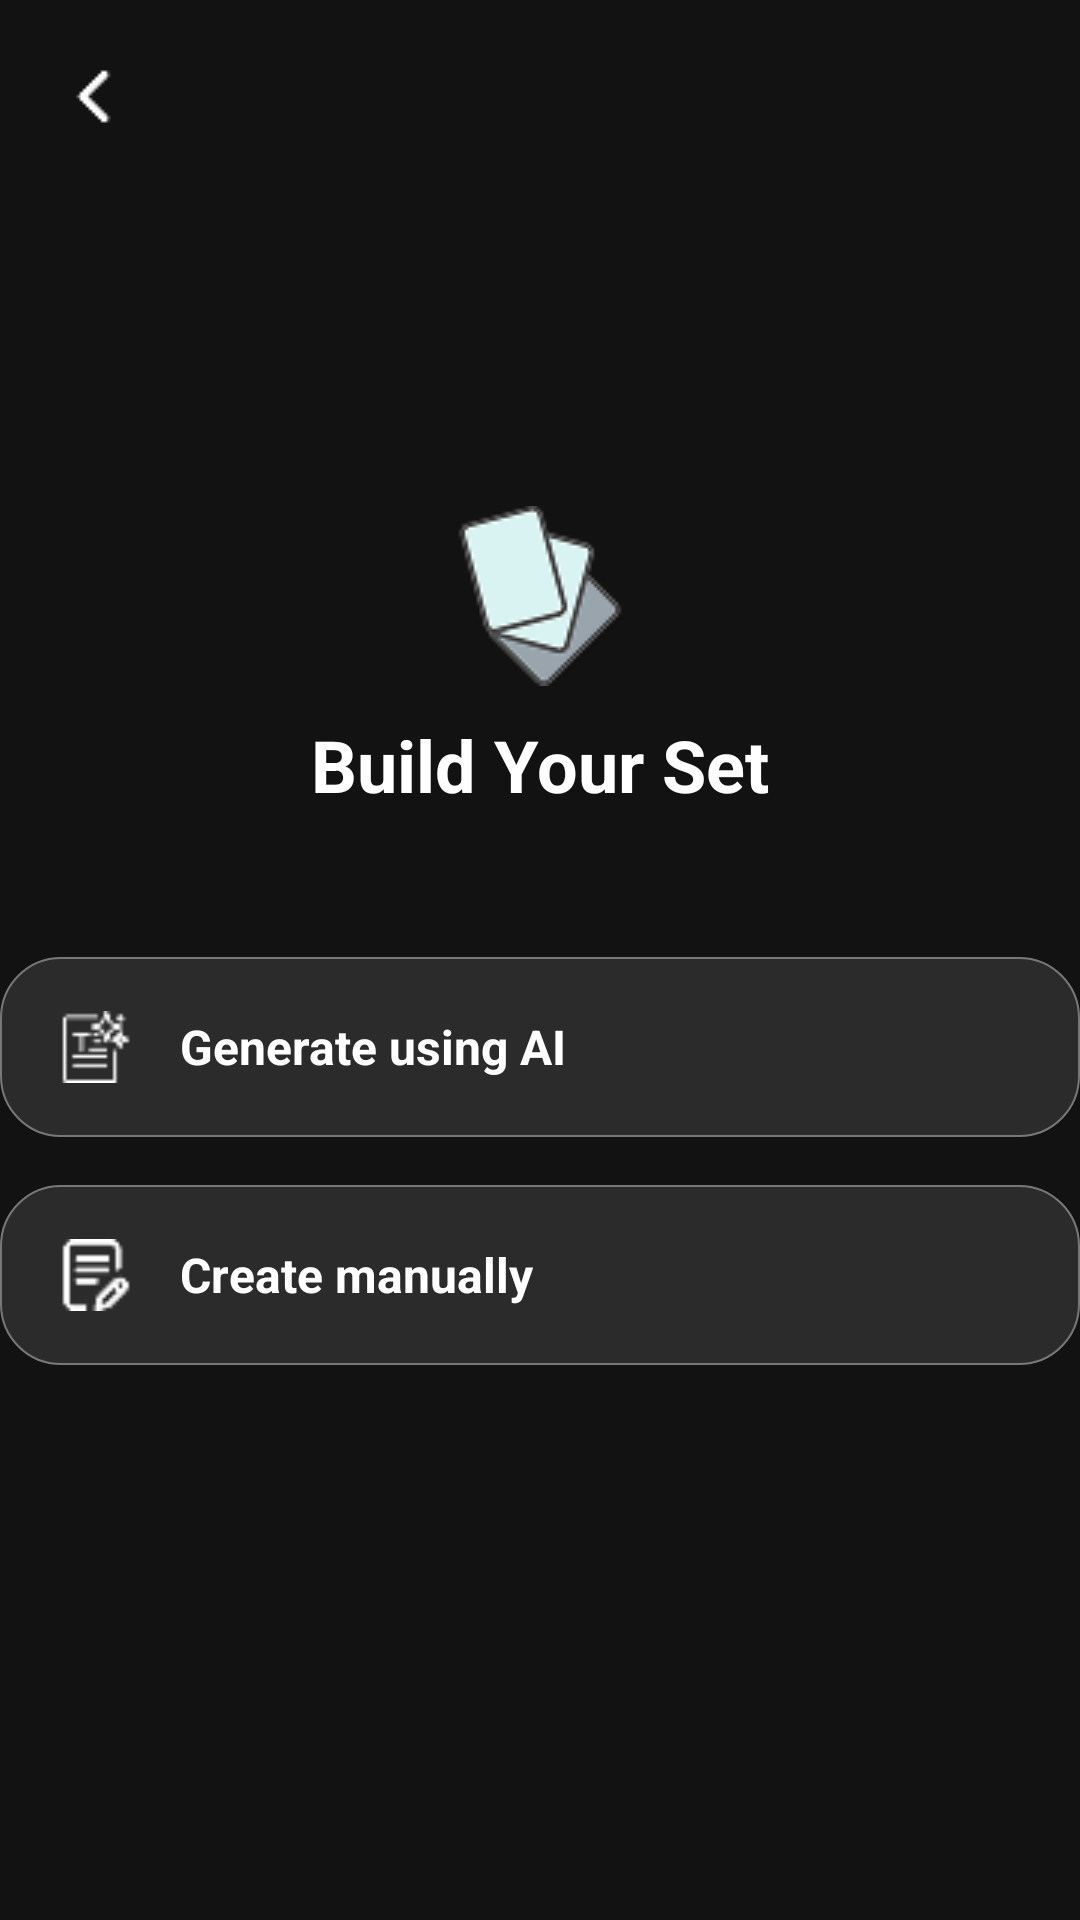

Point at icon controls on the screen. Image size 1080*1920, points as [x,y].
aisummarize: [96,1047]
back: [93,96]
flashcard: [540,596]
notebook: [96,1275]
